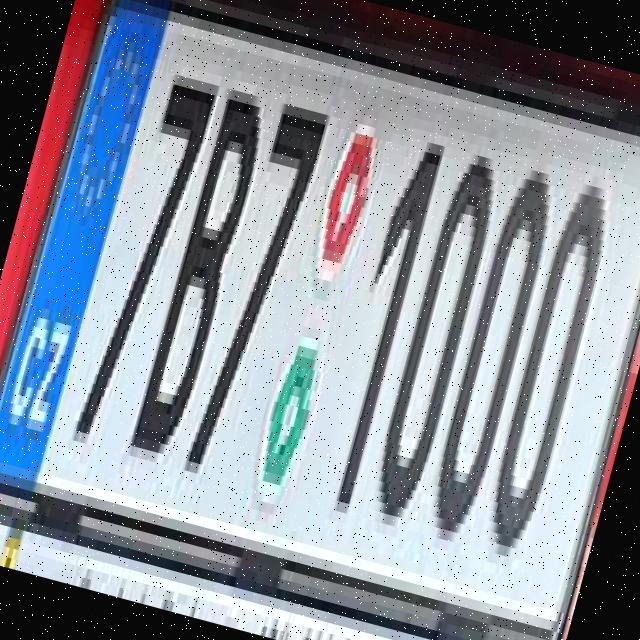EU: (0, 0, 640, 640)
Tcheque: (0, 0, 167, 492)
